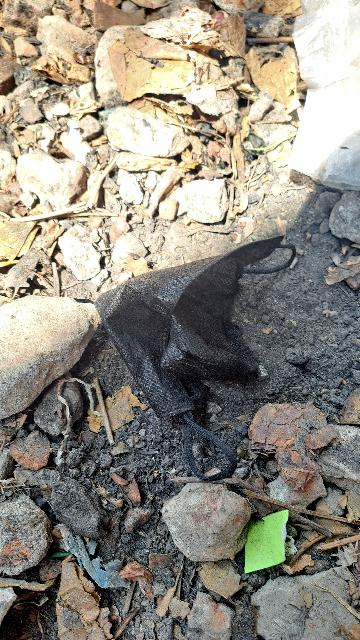mask: (71, 169, 348, 439)
